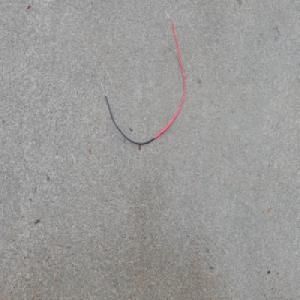Wire: (98, 7, 186, 146)
